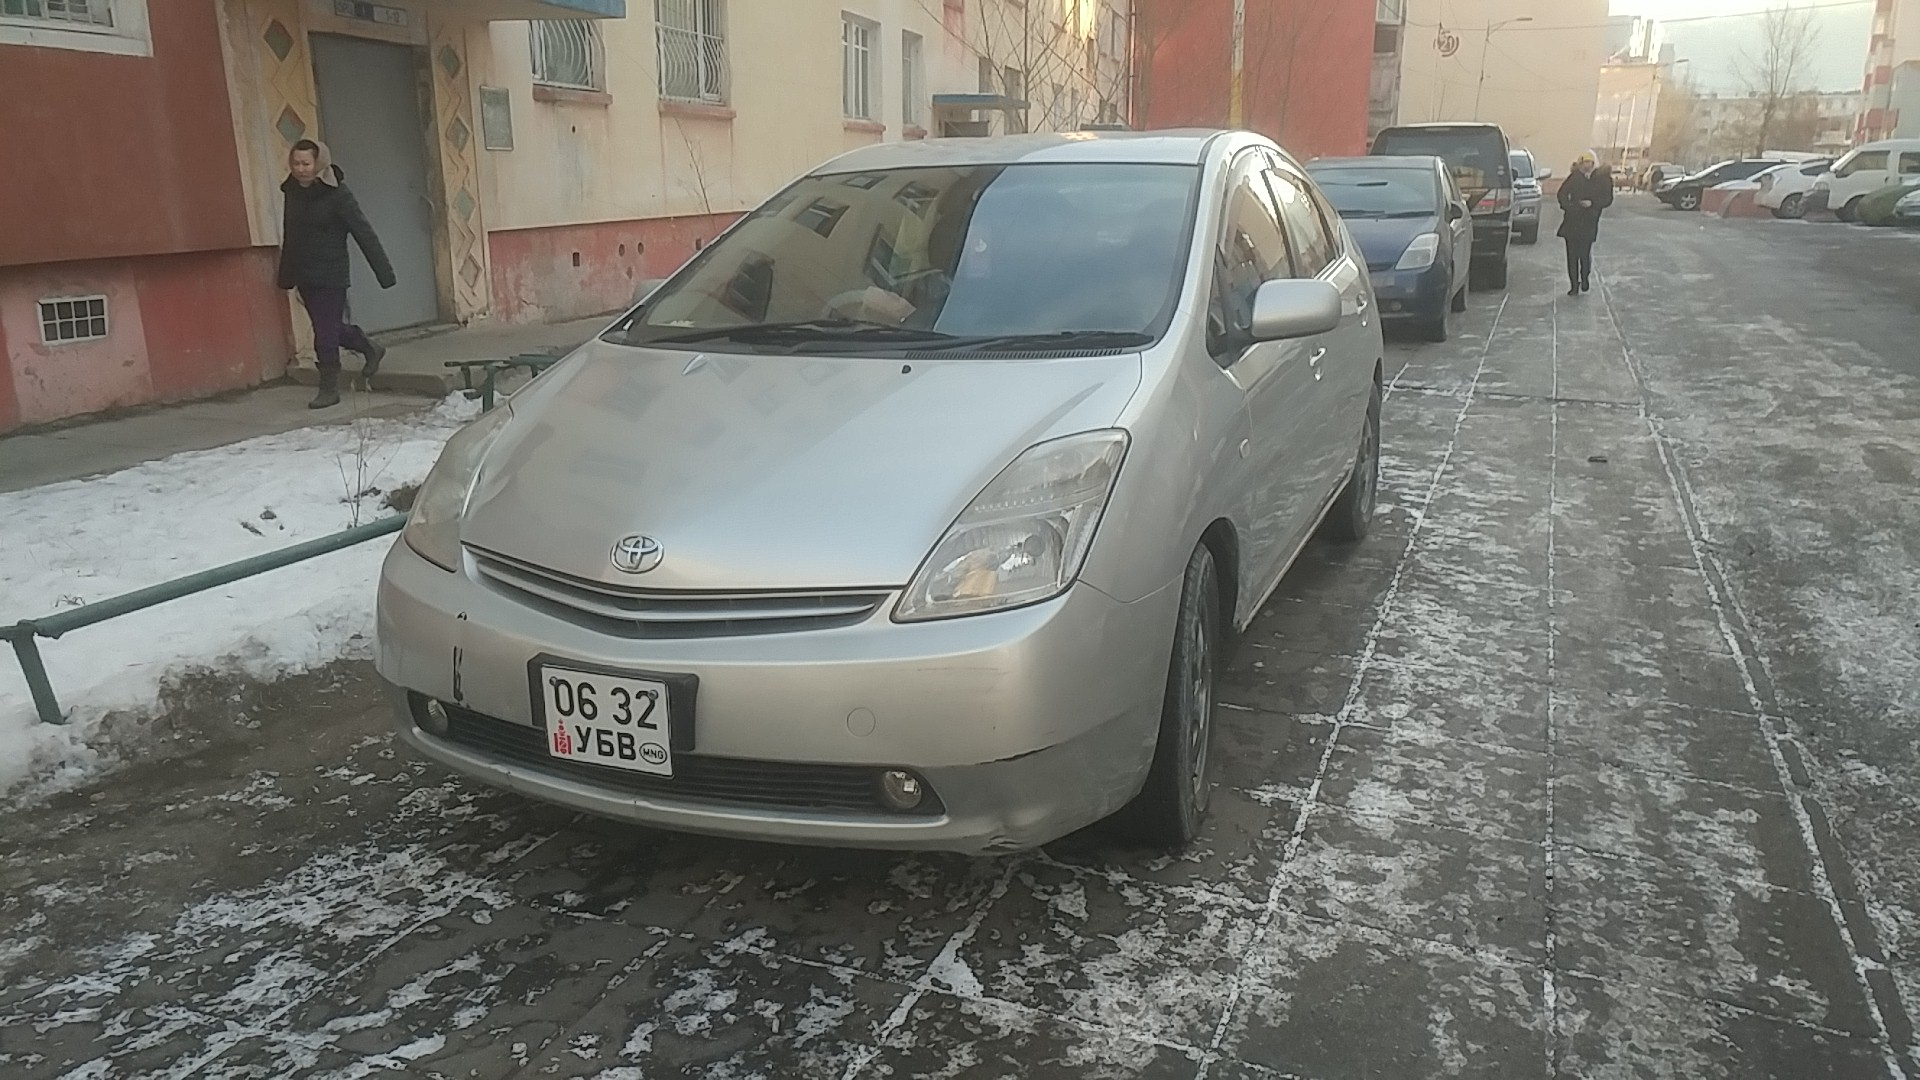0: (553, 677, 577, 718)
2: (633, 687, 660, 730)
3: (608, 685, 634, 725)
6: (576, 679, 598, 720)
b: (595, 727, 615, 756)
plate: (540, 660, 677, 779)
u: (574, 723, 593, 753)
v: (617, 730, 637, 761)
